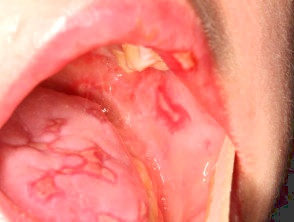SJS-TEN: (3, 98, 124, 211), (149, 22, 211, 85), (138, 81, 200, 139)
